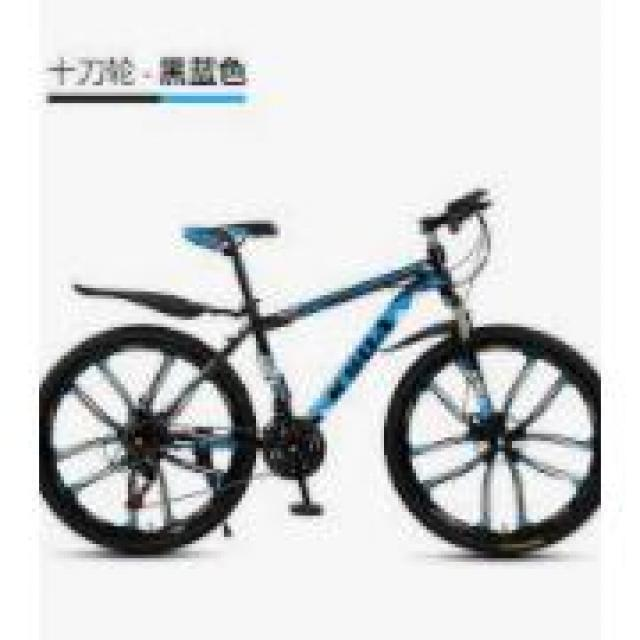bicycle: (51, 193, 595, 552)
